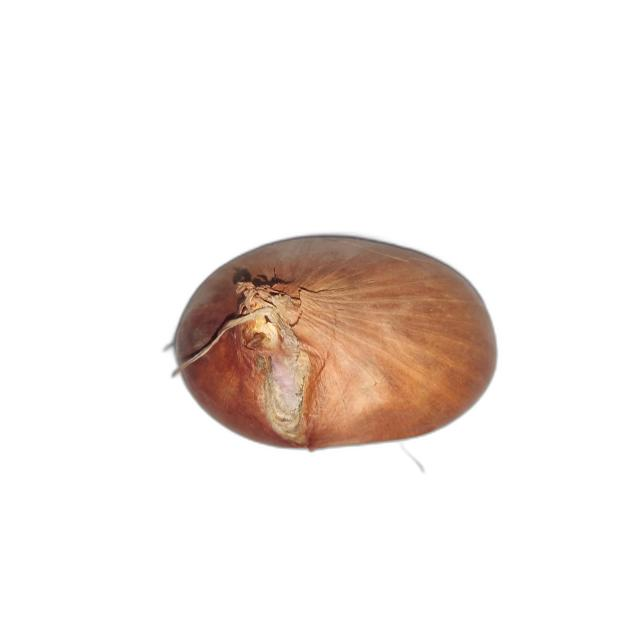onion: (164, 233, 499, 453)
